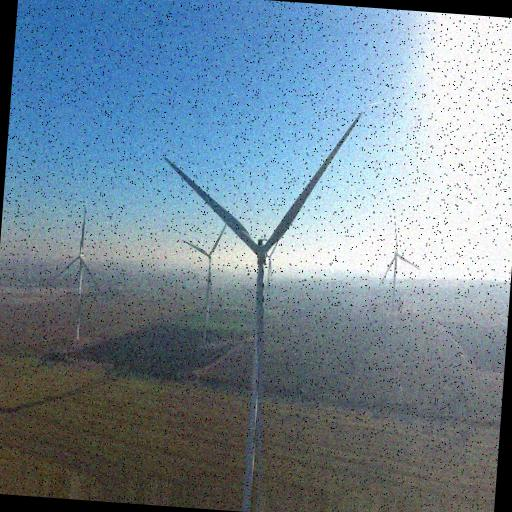wind turbine: (162, 112, 364, 504), (57, 217, 102, 340), (180, 221, 227, 333), (381, 229, 421, 310)
